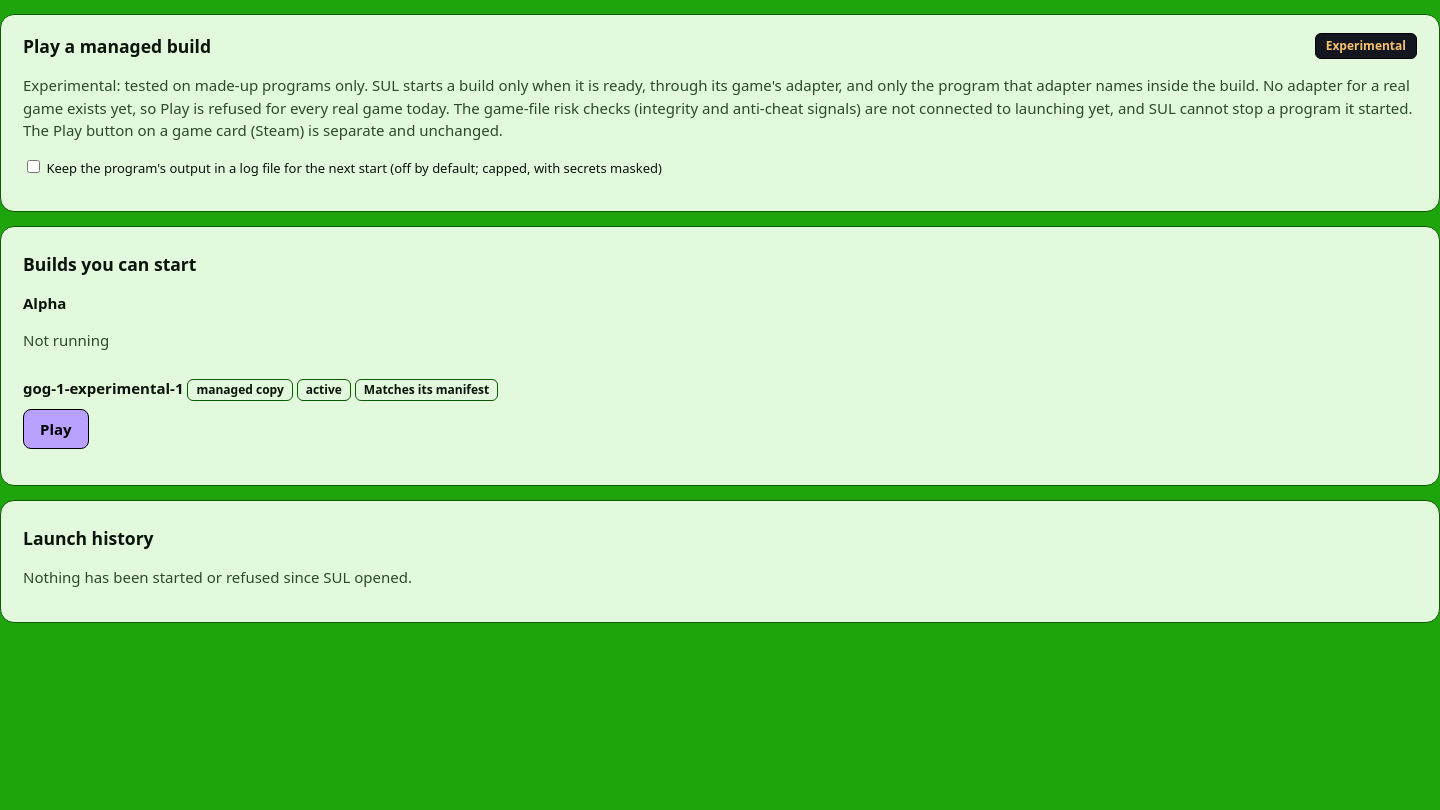
following a running game › a running game is asked about on a timer, and its end is shown in the state, the history and the notice
Click the button "Play" at (56, 429), box [23,409,89,449]
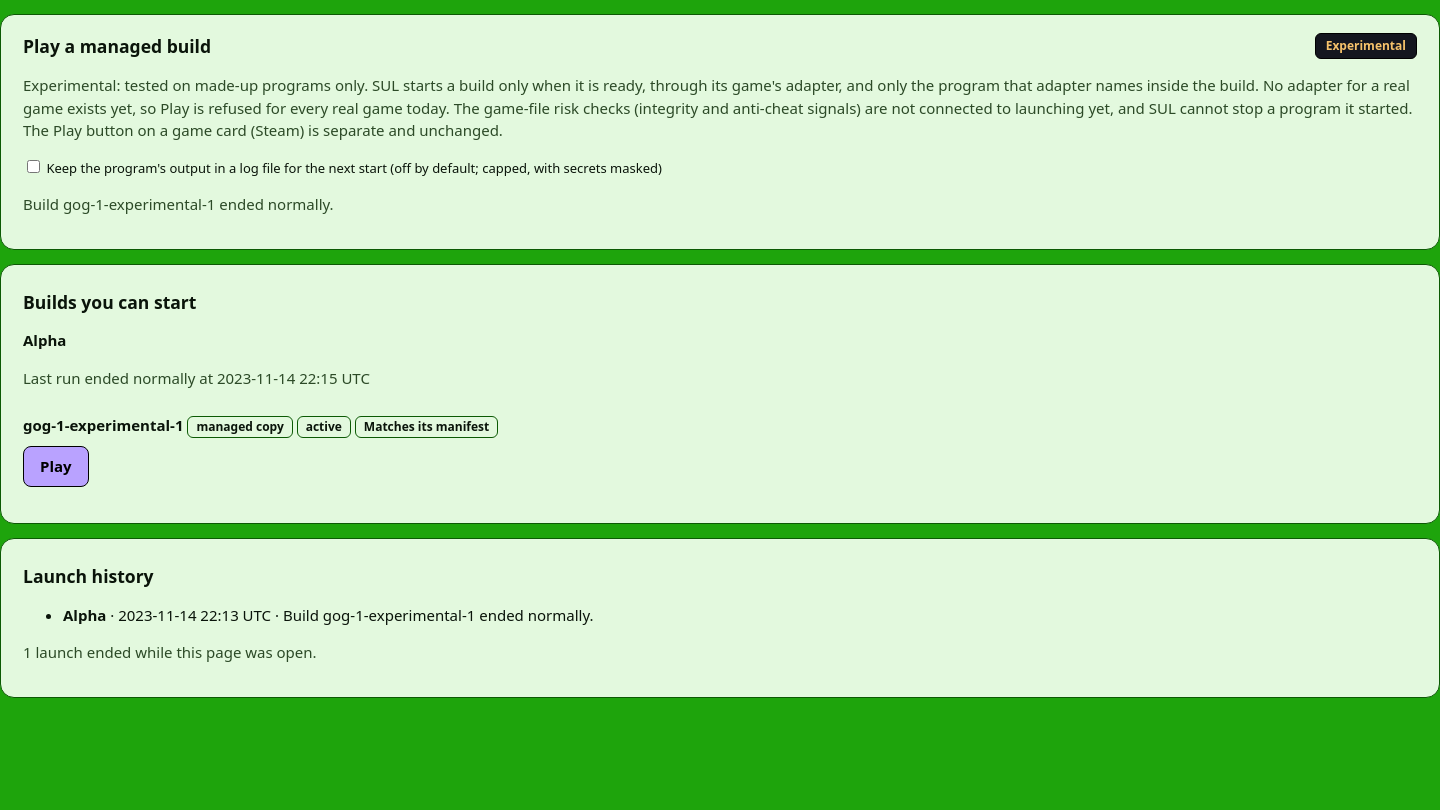
Expected: the element named "Launch history" shows "ended normally", [283,605,594,625]
Expected: the element named "Launch history" shows "1 launch ended while this page was open", [0,538,1439,698]
